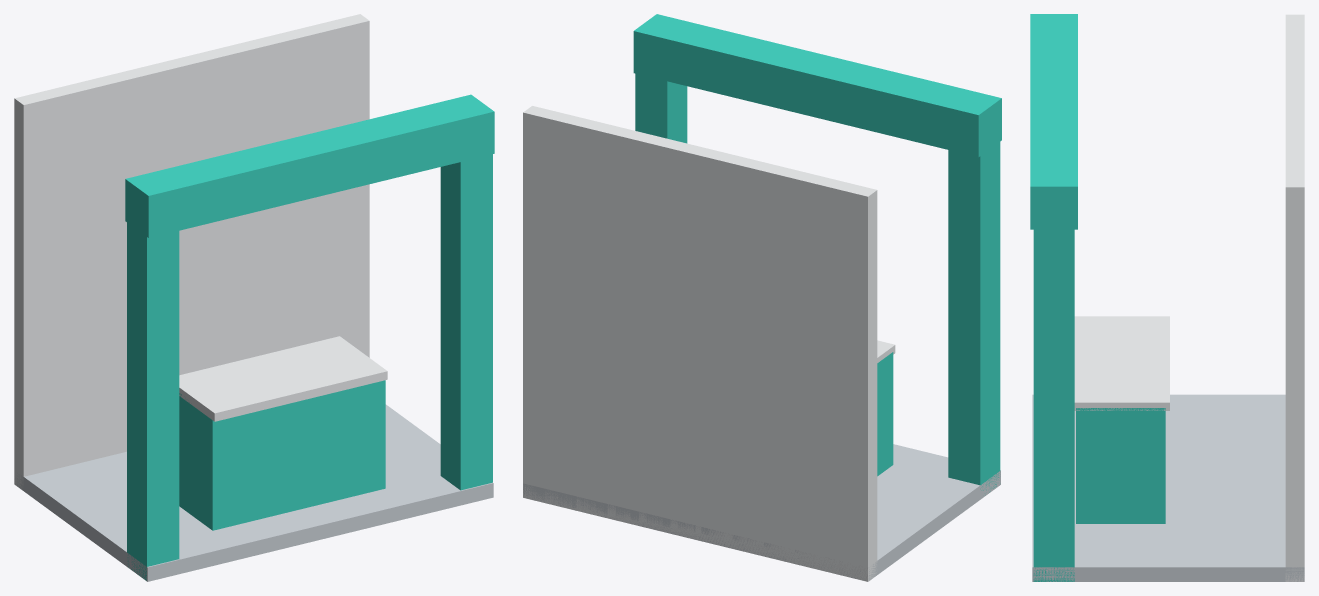
The picture shows the model from 3 angles, left to right: view 1: azimuth 30°, elevation 25°; view 2: azimuth 150°, elevation 25°; view 3: azimuth 270°, elevation 25°; orthographic projection. The views are drawn at different scales.
Visible parts, largest first — view 1: Exhibition Booth Concept; view 2: Exhibition Booth Concept; view 3: Exhibition Booth Concept.
Boxes of the visible parts, <box> form: Exhibition Booth Concept: <box>14,14,494,581</box>; Exhibition Booth Concept: <box>523,14,1001,581</box>; Exhibition Booth Concept: <box>1030,14,1304,581</box>.
Size of the model in its own units: 3 by 3.2 by 2.01.
